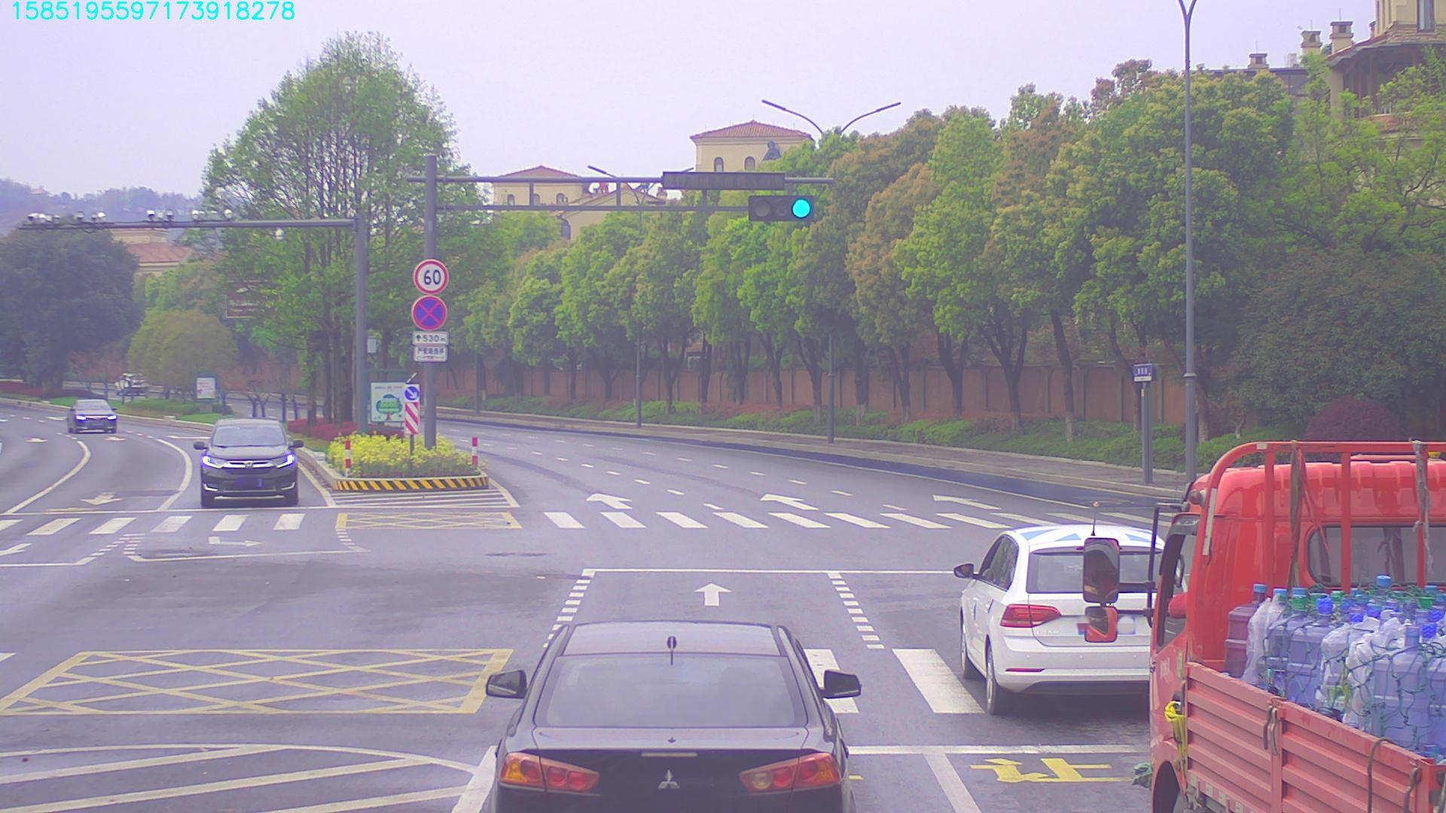green: (749, 195, 806, 219)
